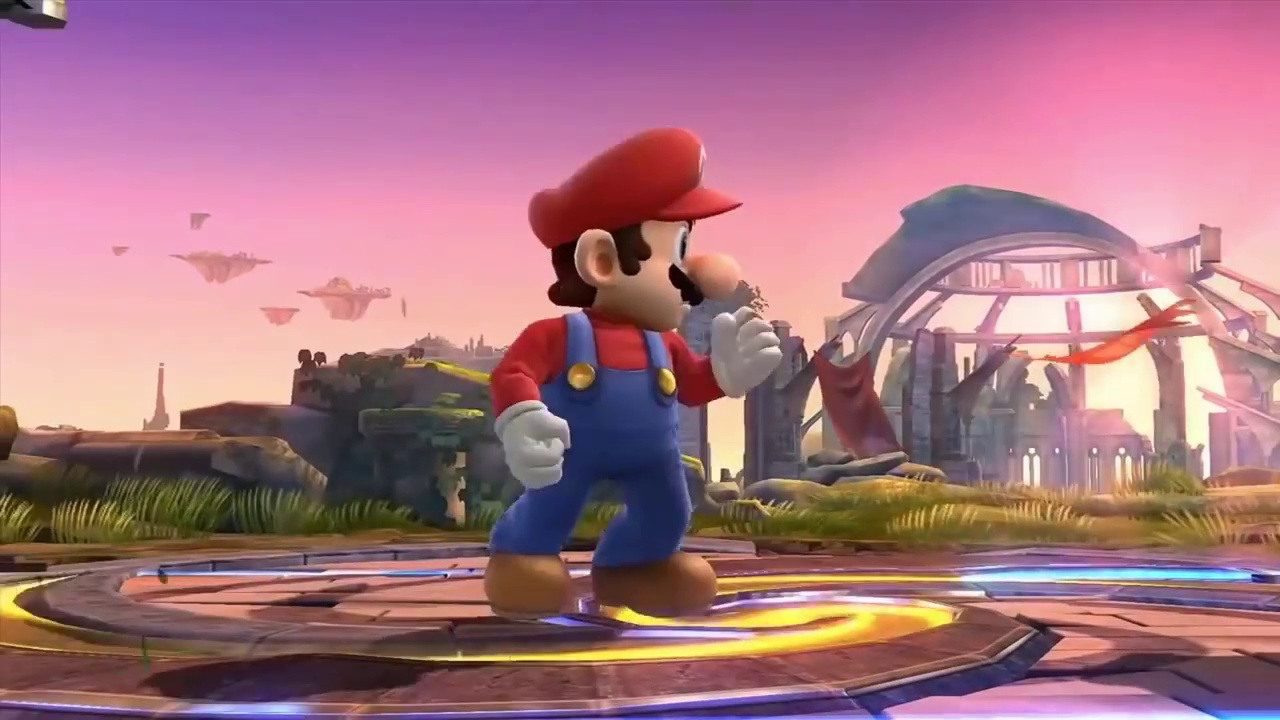Mario: (487, 129, 782, 619)
